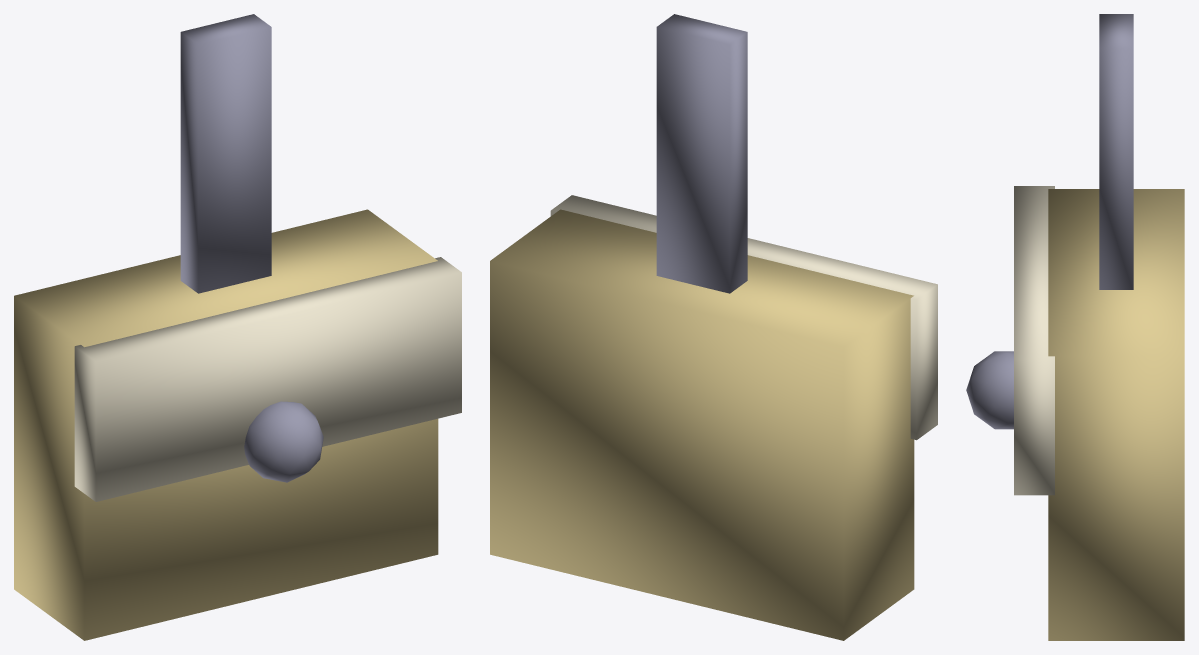
Rendered from timbuktu.glb.
3 renders of one model, left to right at view 1: azimuth 30°, elevation 25°; view 2: azimuth 150°, elevation 25°; view 3: azimuth 270°, elevation 25°, orthographic. The views are drawn at different scales.
Parts seen in each view (by area): view 1: timbuktu; view 2: timbuktu; view 3: timbuktu.
Boxes of the visible parts, box(x1,y1,x2,y2) form: timbuktu: box(14, 14, 461, 640); timbuktu: box(490, 14, 937, 640); timbuktu: box(966, 14, 1184, 640).
Bounding box in the file's own units: 0.06 × 0.085 × 0.032.
